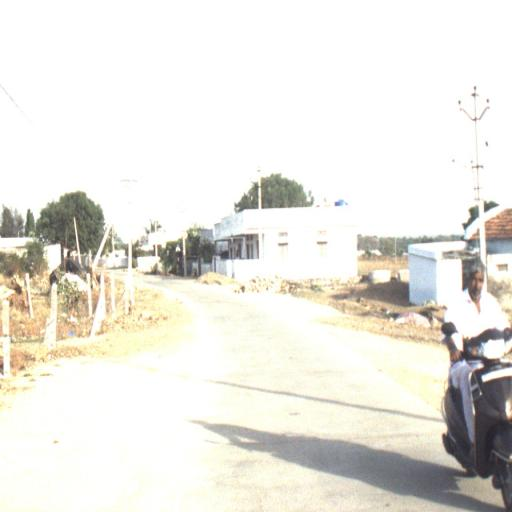street_light_0: (453, 158, 484, 202)
